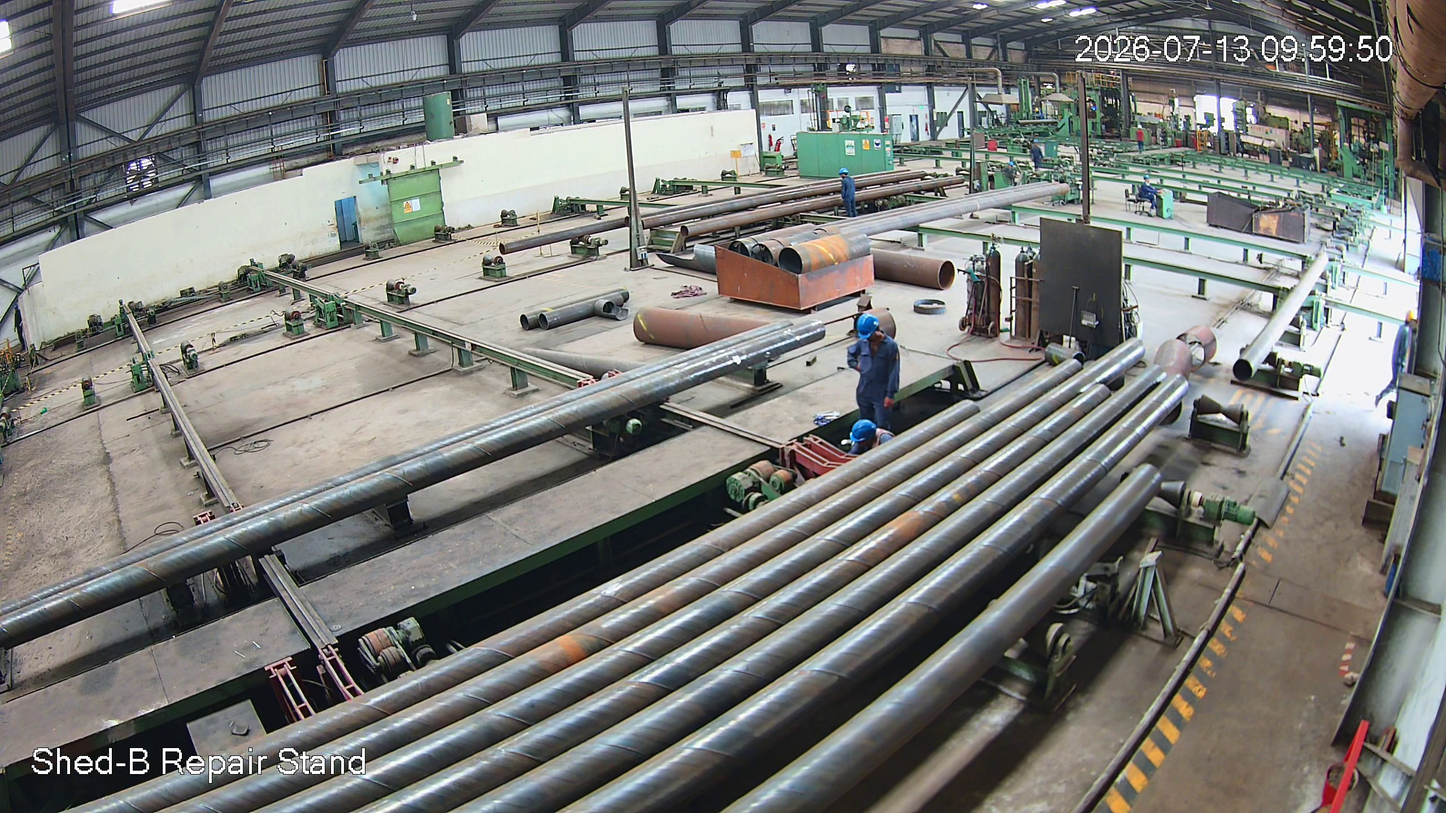Helmet: (854, 311, 884, 351), (846, 417, 882, 447), (838, 167, 851, 180)
Person: (844, 315, 901, 438), (833, 420, 897, 459), (837, 167, 857, 220)
